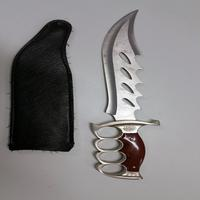knife: (94, 5, 154, 183)
